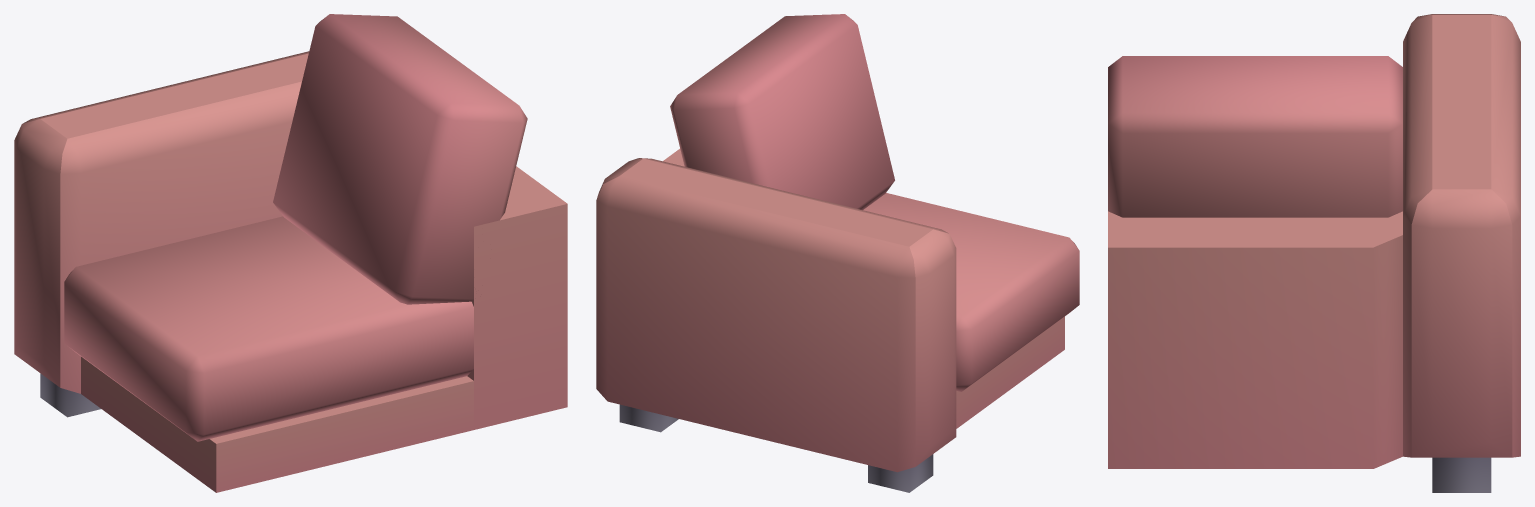
The model's file is amsterdam-sofa-left.glb.
The picture shows the model from 3 angles, left to right: view 1: azimuth 30°, elevation 25°; view 2: azimuth 150°, elevation 25°; view 3: azimuth 270°, elevation 25°; orthographic projection. The views are drawn at different scales.
Visible parts, largest first — view 1: amsterdam-sofa-left; view 2: amsterdam-sofa-left; view 3: amsterdam-sofa-left.
Boxes of the visible parts, x1,y1,x2,y2 form: amsterdam-sofa-left: [14, 14, 567, 492]; amsterdam-sofa-left: [596, 14, 1079, 492]; amsterdam-sofa-left: [1108, 14, 1520, 492].
Bounding box in the file's own units: 0.8 × 0.7323 × 0.7.
